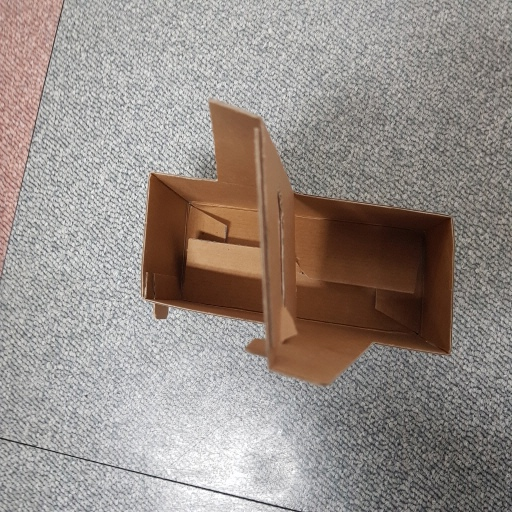Paper_0: (135, 96, 474, 394)
